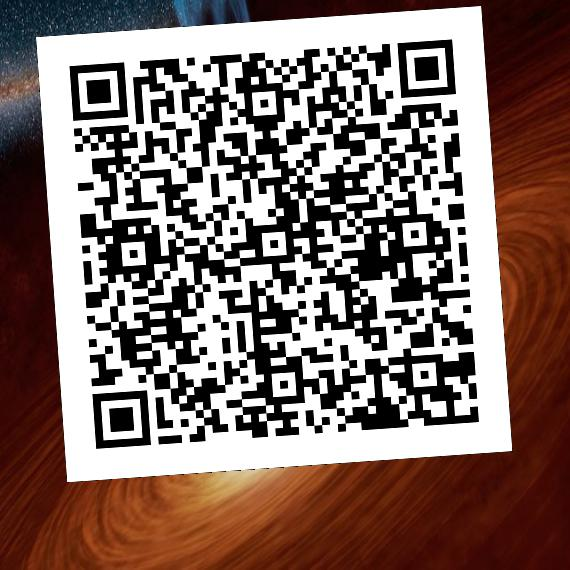qr_code: (36, 6, 512, 482)
